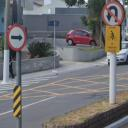NoVirarU: (102, 1, 124, 26)
